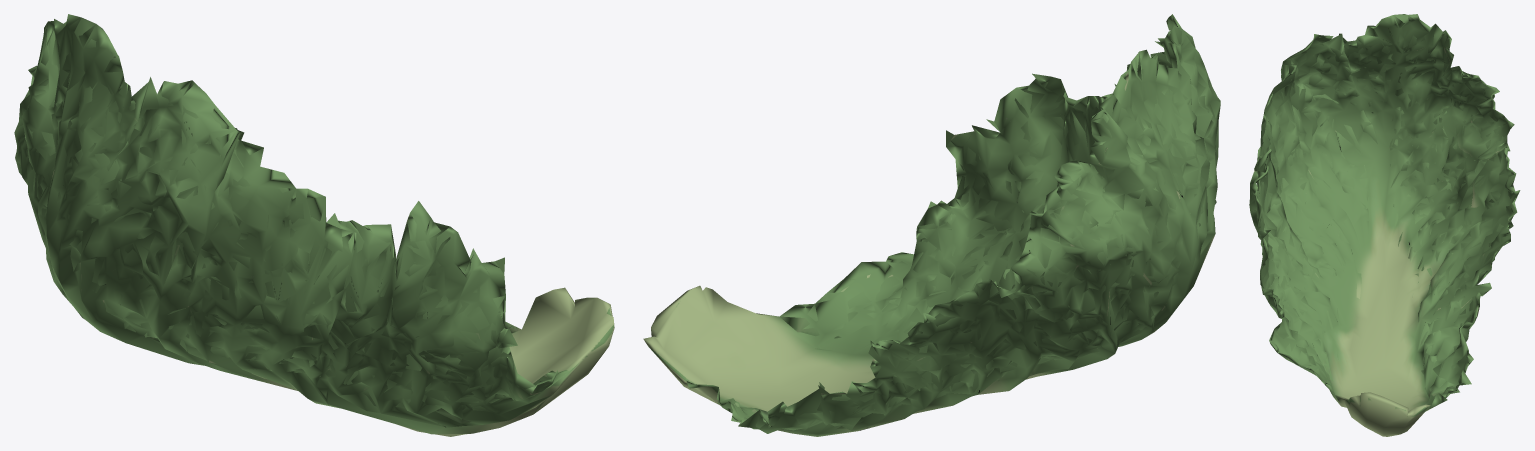
The model's file is lettuce-cut.fbx.
3 views of the same model, side by side, from view 1: azimuth 30°, elevation 25°; view 2: azimuth 150°, elevation 25°; view 3: azimuth 270°, elevation 25° (orthographic). The views are drawn at different scales.
Parts seen in each view (by area): view 1: 淘宝店铺：晨风素材7_2; view 2: 淘宝店铺：晨风素材7_2; view 3: 淘宝店铺：晨风素材7_2.
Part boxes in pixels (box(x1,y1,x2,y2)): 淘宝店铺：晨风素材7_2: box(14, 14, 614, 436); 淘宝店铺：晨风素材7_2: box(643, 14, 1220, 436); 淘宝店铺：晨风素材7_2: box(1249, 14, 1520, 436).
Size of the model in its own units: 217 by 180 by 150.
